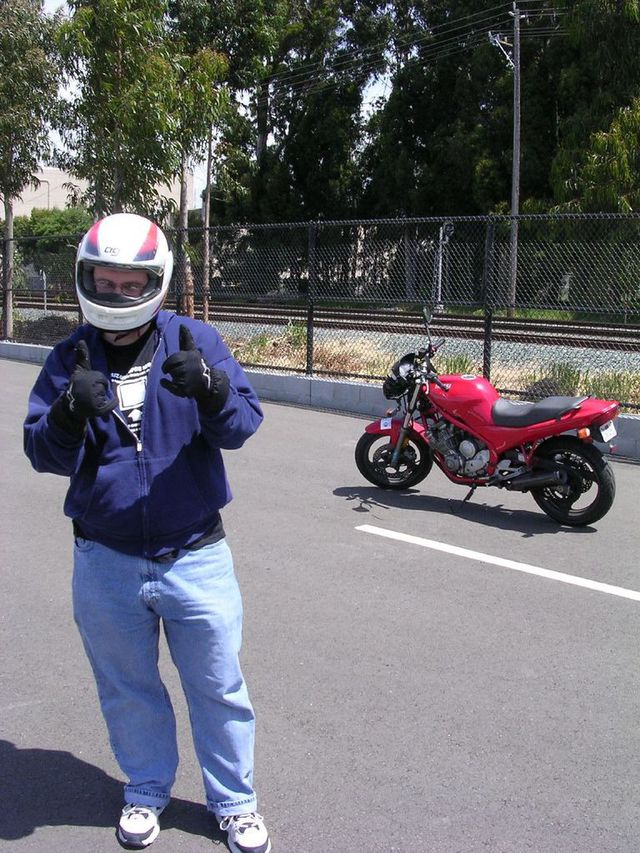helmet: (68, 218, 174, 322)
